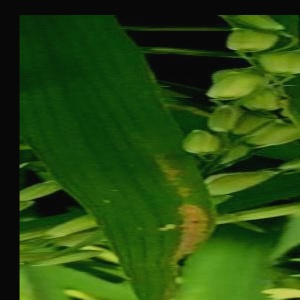Leaf_Blast: (110, 155, 213, 300)
